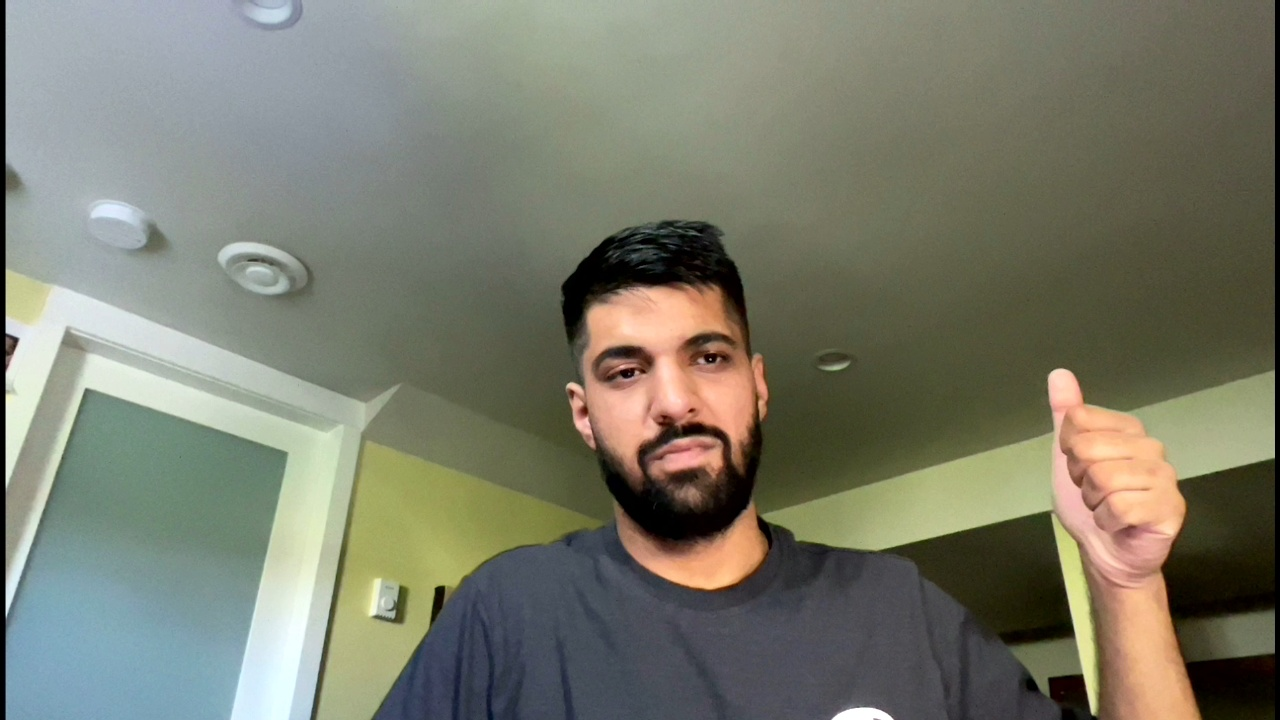Yes: (1016, 363, 1197, 574)
